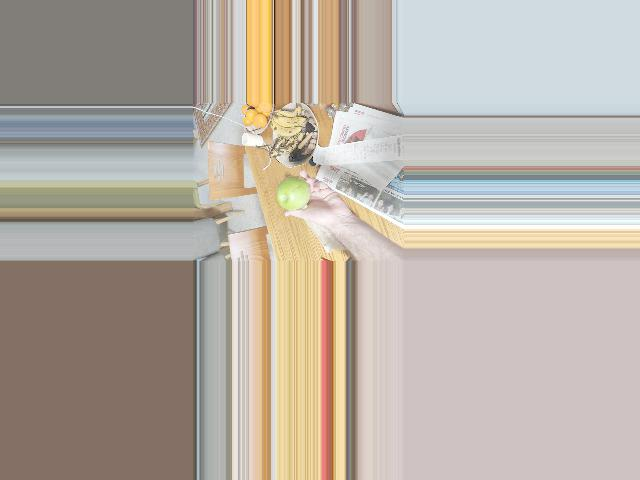apple: (272, 175, 315, 212)
